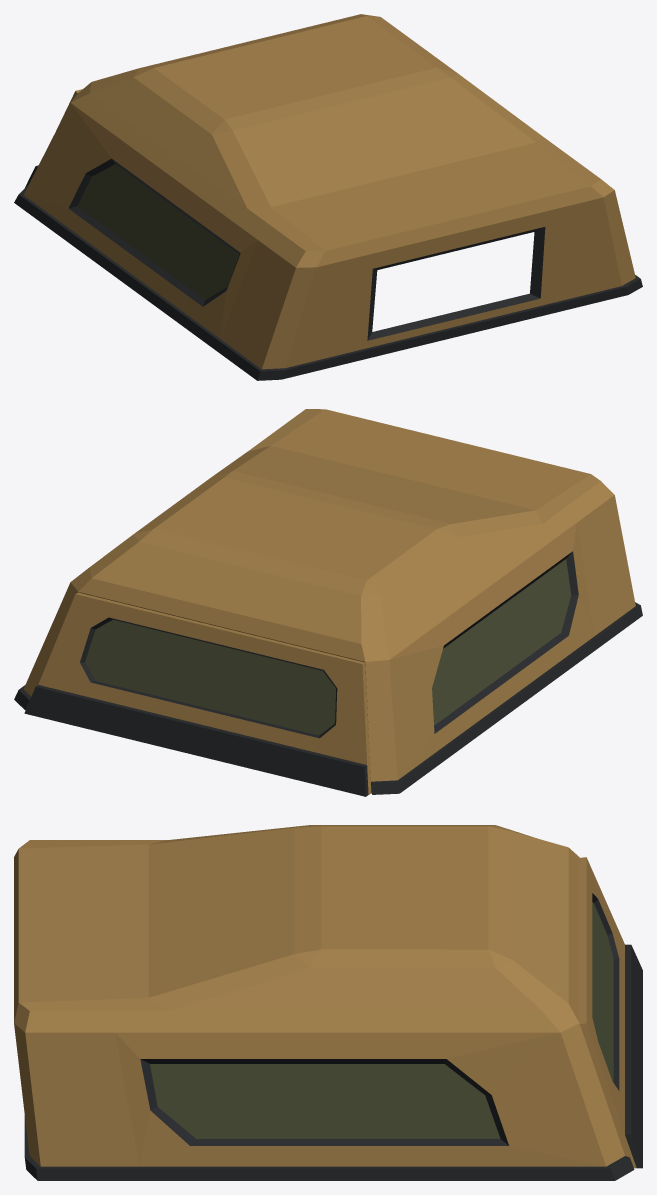
Rendered from SM_Veh_Pickup_01_Canopy.fbx.
The picture shows the model from 3 angles, top to bottom: view 1: azimuth 30°, elevation 25°; view 2: azimuth 150°, elevation 25°; view 3: azimuth 270°, elevation 25°; orthographic projection. The views are drawn at different scales.
Parts seen in each view (by area): view 1: SM_Veh_Pickup_01_Canopy, SM_Veh_Pickup_01_Canopy_Glass; view 2: SM_Veh_Pickup_01_Canopy, SM_Veh_Pickup_01_Canopy_Door, SM_Veh_Pickup_01_Canopy_Door_Glass, SM_Veh_Pickup_01_Canopy_Glass; view 3: SM_Veh_Pickup_01_Canopy, SM_Veh_Pickup_01_Canopy_Glass, SM_Veh_Pickup_01_Canopy_Door, SM_Veh_Pickup_01_Canopy_Door_Glass.
Boxes of the visible parts, x1=… form: SM_Veh_Pickup_01_Canopy: x1=14, y1=14, x2=642, y2=380; SM_Veh_Pickup_01_Canopy_Glass: x1=77, y1=164, x2=239, y2=299; SM_Veh_Pickup_01_Canopy: x1=14, y1=409, x2=642, y2=794; SM_Veh_Pickup_01_Canopy_Door: x1=24, y1=592, x2=371, y2=796; SM_Veh_Pickup_01_Canopy_Door_Glass: x1=85, y1=620, x2=335, y2=735; SM_Veh_Pickup_01_Canopy_Glass: x1=432, y1=559, x2=571, y2=725; SM_Veh_Pickup_01_Canopy: x1=14, y1=825, x2=634, y2=1180; SM_Veh_Pickup_01_Canopy_Glass: x1=150, y1=1064, x2=500, y2=1138; SM_Veh_Pickup_01_Canopy_Door: x1=579, y1=857, x2=642, y2=1168; SM_Veh_Pickup_01_Canopy_Door_Glass: x1=592, y1=902, x2=613, y2=1082.
Size of the model in its own units: 194 by 74.14 by 231.
